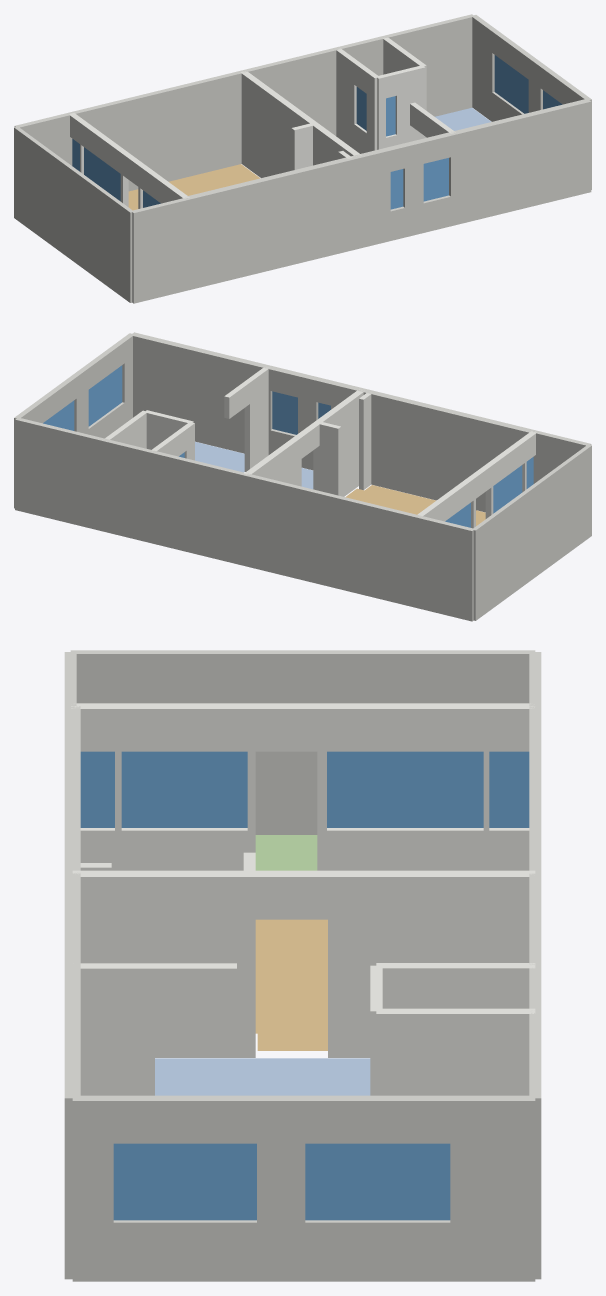
The model's file is Screenshot 2026-10-06 at 15-24-39 CubiCasa5k_3d.obj.
The picture shows the model from 3 angles, top to bottom: view 1: azimuth 30°, elevation 25°; view 2: azimuth 150°, elevation 25°; view 3: azimuth 270°, elevation 25°; orthographic projection. The views are drawn at different scales.
Visible parts, largest first — view 1: wall_W8_10, wall_W11_19, wall_W2_1, wall_W13_21, wall_W12_20, wall_W5_4, wall_W16_38, wall_W3_2, wall_W10_12, wall_W21_49, wall_W10_15, wall_W6_8 (+30 smaller); view 2: wall_W2_1, wall_W13_21, wall_W8_10, wall_W11_19, wall_W3_2, wall_W5_4, wall_W1_0, wall_W4_3, wall_W19_47, wall_W17_41, wall_W7_9, wall_W16_38 (+25 smaller); view 3: wall_W13_21, wall_W16_38, wall_W17_41, wall_W21_49, wall_W20_48, window_N2_57, window_N4_59, window_N6_61, wall_W19_47, window_N7_62, floor_R2_living_67, wall_W21_52 (+34 smaller).
Boxes of the visible parts, <box> form: wall_W8_10: <box>187,157,352,290</box>; wall_W11_19: <box>453,98,591,224</box>; wall_W2_1: <box>70,70,243,191</box>; wall_W13_21: <box>14,126,132,302</box>; wall_W12_20: <box>131,197,188,303</box>; wall_W5_4: <box>383,14,474,116</box>; wall_W16_38: <box>240,71,297,177</box>; wall_W3_2: <box>242,47,338,135</box>; wall_W10_12: <box>357,147,390,248</box>; wall_W21_49: <box>471,15,496,121</box>; wall_W10_15: <box>401,139,423,237</box>; wall_W6_8: <box>394,65,425,144</box>; wall_W2_1: <box>245,473,419,607</box>; wall_W13_21: <box>472,445,591,620</box>; wall_W8_10: <box>369,390,535,512</box>; wall_W11_19: <box>130,332,269,453</box>; wall_W3_2: <box>151,450,245,565</box>; wall_W5_4: <box>15,417,106,531</box>; wall_W1_0: <box>417,515,474,621</box>; wall_W4_3: <box>104,439,152,542</box>; wall_W19_47: <box>244,367,269,471</box>; wall_W17_41: <box>315,389,364,496</box>; wall_W7_9: <box>316,421,341,495</box>; wall_W16_38: <box>244,436,301,486</box>; wall_W13_21: <box>70,650,535,834</box>; wall_W16_38: <box>328,870,535,1057</box>; wall_W17_41: <box>72,870,249,1057</box>; wall_W21_49: <box>450,1095,535,1281</box>; wall_W20_48: <box>376,1008,535,1095</box>; window_N2_57: <box>327,751,483,827</box>; window_N4_59: <box>305,1143,450,1220</box>; window_N6_61: <box>113,1143,256,1220</box>; wall_W19_47: <box>80,963,154,1095</box>; window_N7_62: <box>121,751,247,827</box>; floor_R2_living_67: <box>255,919,327,1050</box>; wall_W21_52: <box>257,1095,305,1281</box>.
Size of the model in its own units: 14.69 by 2.75 by 6.57.
